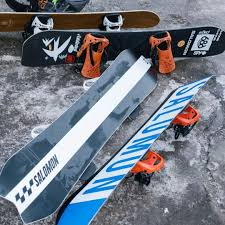snowboard: (1, 47, 159, 225), (55, 74, 216, 225), (21, 24, 225, 68), (1, 9, 161, 34)
